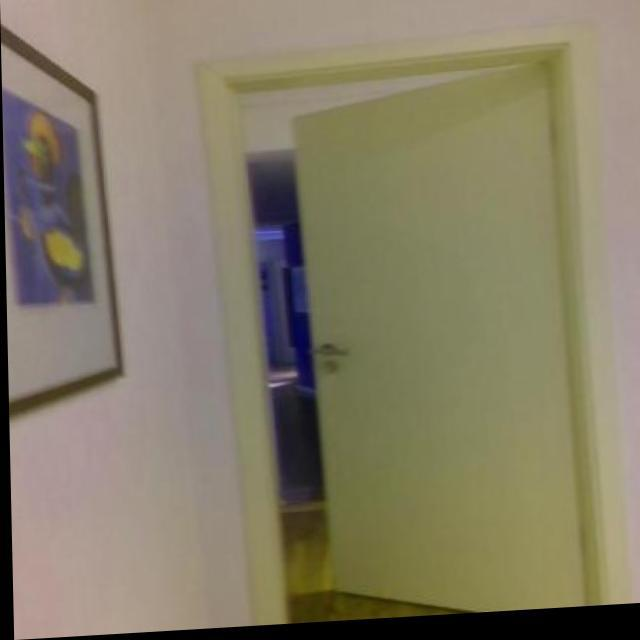door_handle: (304, 347, 357, 372)
